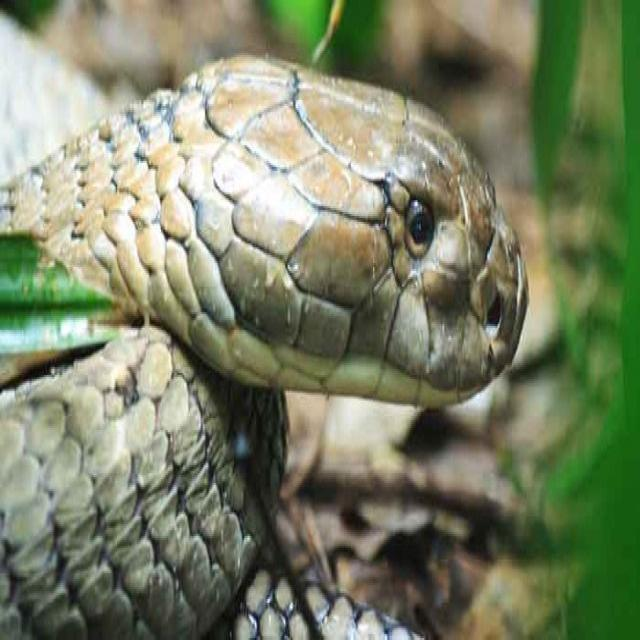Snake: (0, 49, 529, 638)
